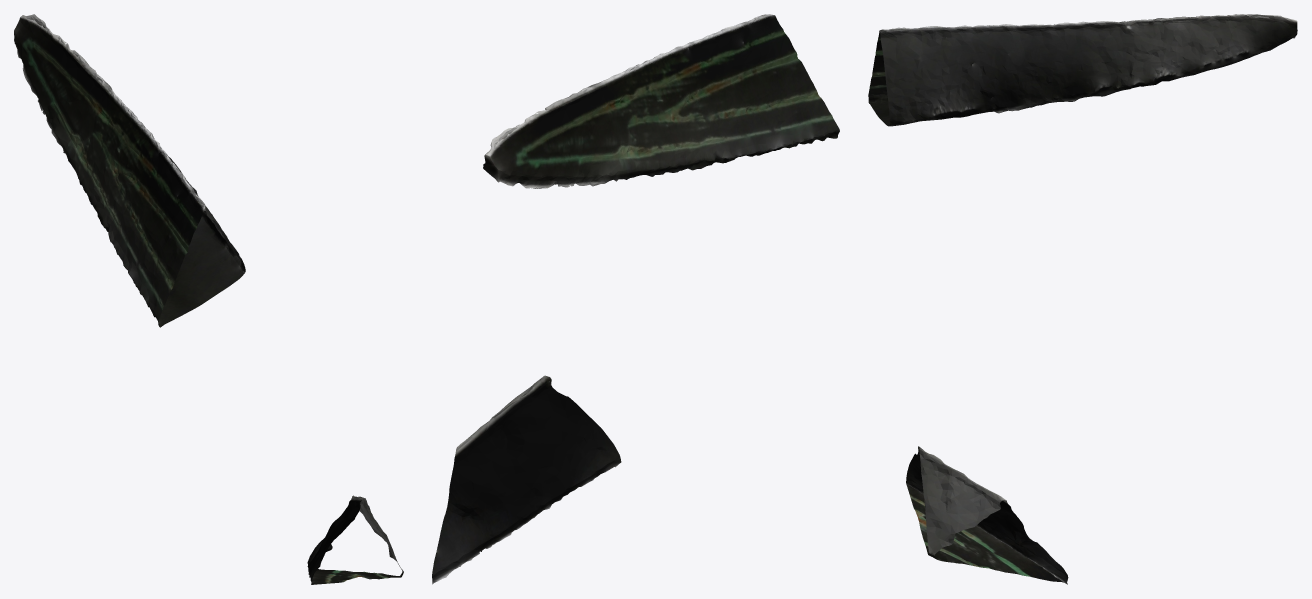
Rendered from tile_1_0.obj.
The picture shows the model from 3 angles, left to right: view 1: azimuth 30°, elevation 25°; view 2: azimuth 150°, elevation 25°; view 3: azimuth 270°, elevation 25°; orthographic projection. The views are drawn at different scales.
Visible parts, largest first — view 1: texture_0; view 2: texture_0; view 3: texture_0.
Part boxes in pixels (<box>): texture_0: <box>14,14,403,584</box>; texture_0: <box>432,14,839,584</box>; texture_0: <box>868,14,1297,584</box>.
Size of the model in its own units: 0.1037 by 0.183 by 0.1443.
Materials: 1 (1 with a texture image).
